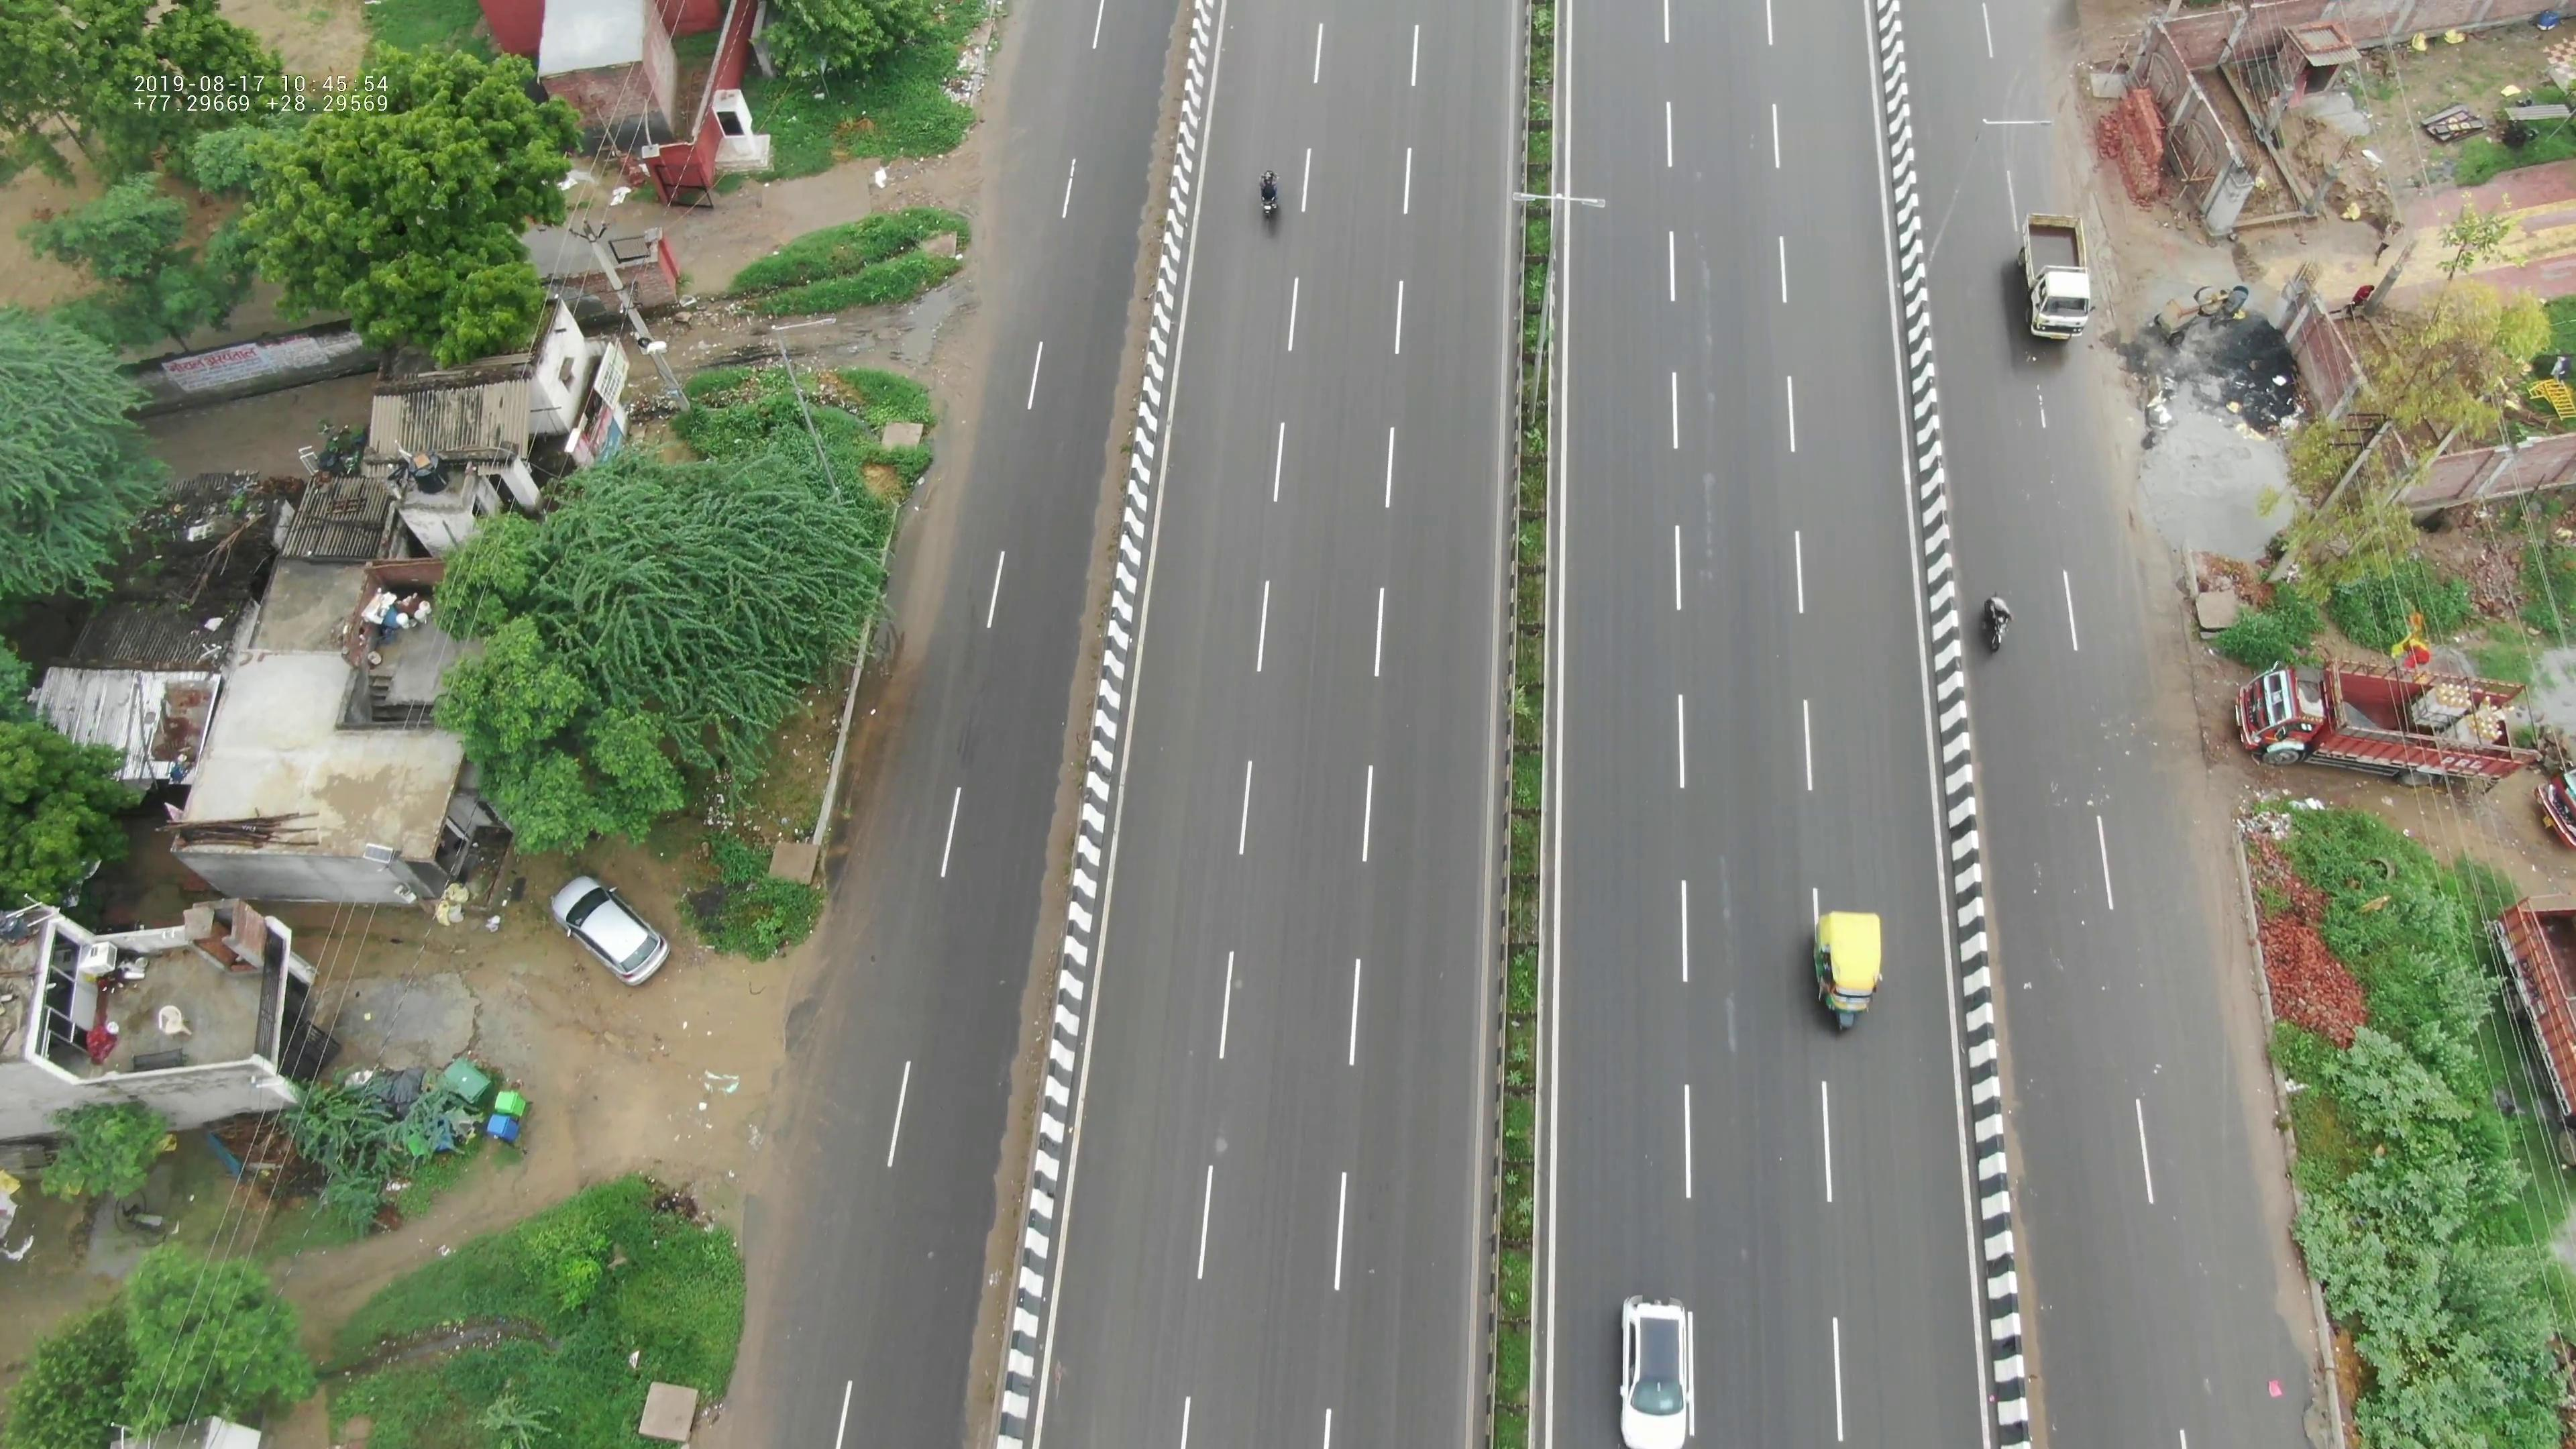Mud_Heaps: (2235, 835, 2376, 1051)
Waterlogging: (885, 290, 975, 359)
